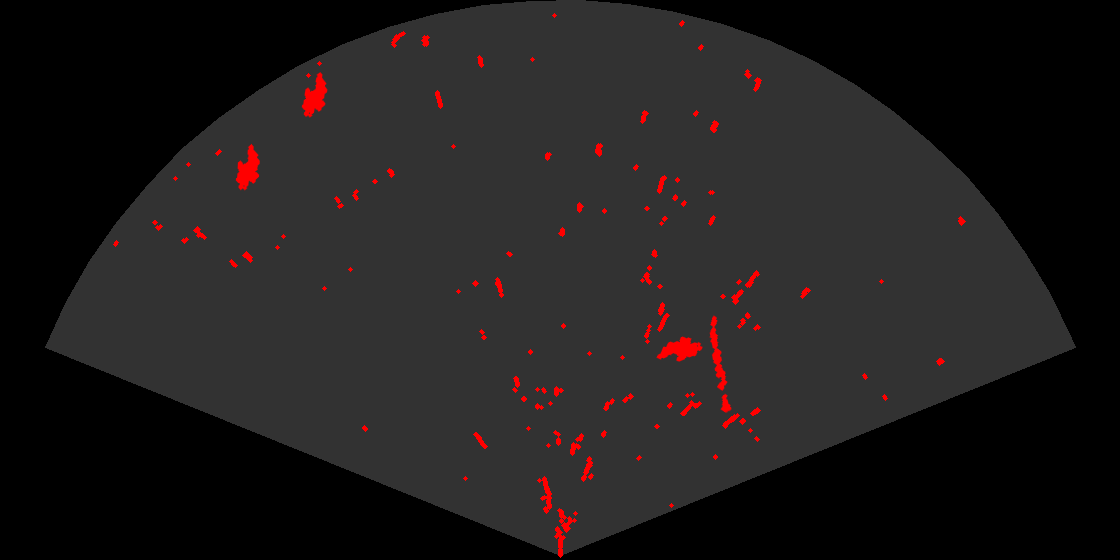AUV: (300, 71, 329, 119), (655, 335, 704, 363), (234, 142, 261, 192)
chain: (708, 314, 733, 415)
